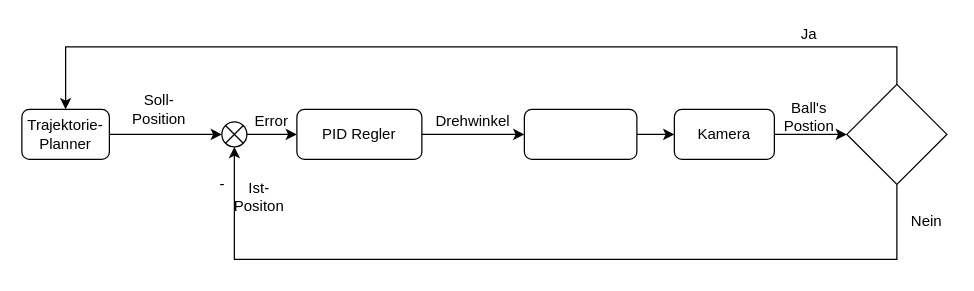
This 974x291 diagram has some shape labels left out. Here are the shapes that lost their labels. From the top down, the centre of each, then its label:
At pixel 580 133: "Motor Steuerung".
At pixel 896 133: "erreicht?".
